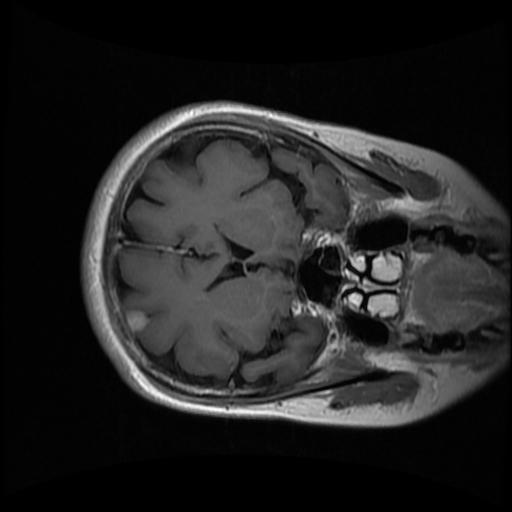meningioma: (124, 310, 150, 331)
